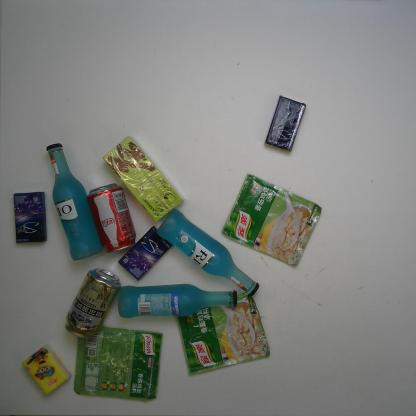Alcohol: (156, 208, 260, 298), (44, 141, 104, 262), (117, 282, 239, 318), (64, 267, 122, 340)
Drink: (87, 182, 137, 254)
Gum: (117, 225, 174, 281), (264, 94, 308, 152), (12, 190, 48, 244)
Instant Drink: (102, 134, 186, 222)
Seasoner: (221, 172, 323, 268), (176, 291, 271, 376), (73, 326, 164, 400)
Tissue: (22, 342, 73, 398)
